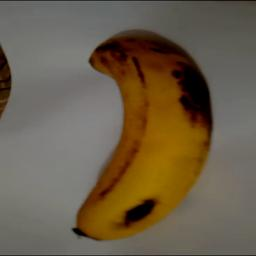Banana Unripe: (54, 34, 220, 244)
